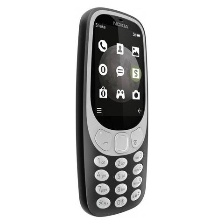phone: (68, 2, 153, 219)
